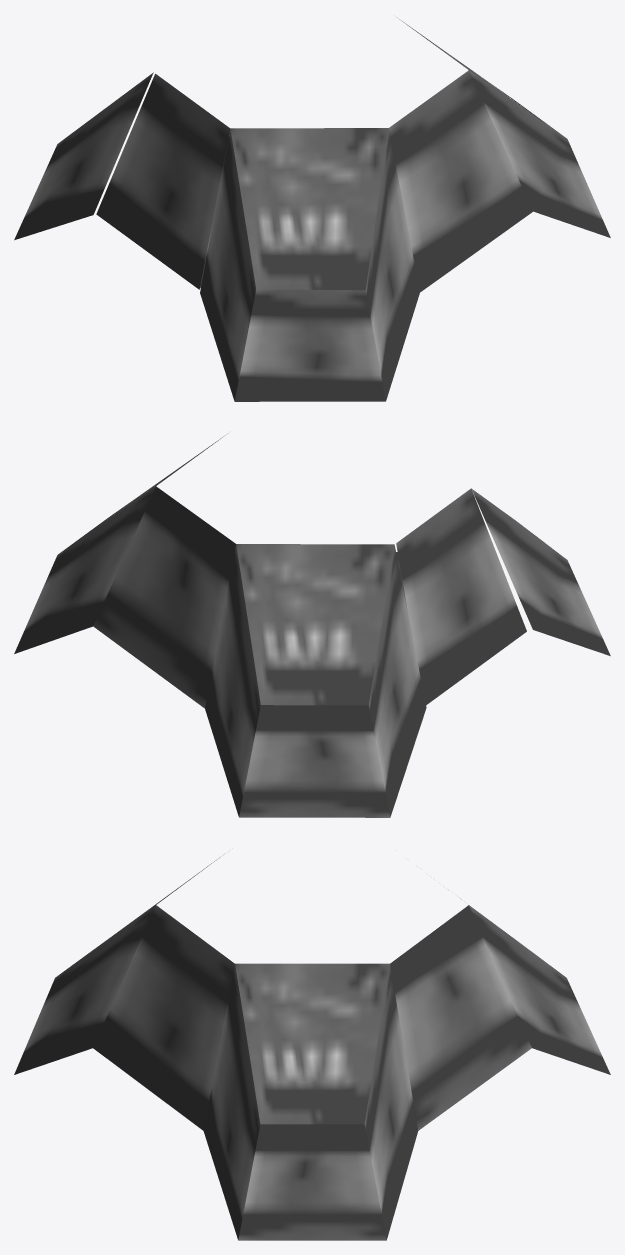
Rendered from mine.glb.
3 views of the same model, one above another, from view 1: azimuth 30°, elevation 25°; view 2: azimuth 150°, elevation 25°; view 3: azimuth 270°, elevation 25° (orthographic).
Visible parts, largest first — view 1: root; view 2: root; view 3: root.
Boxes of the visible parts, x1,y1,x2,y2 form: root: [14, 19, 610, 401]; root: [14, 435, 610, 817]; root: [14, 857, 610, 1240].
Size of the model in its own units: 0.3242 by 0.1406 by 0.3691.
1 material, 1 textured.
